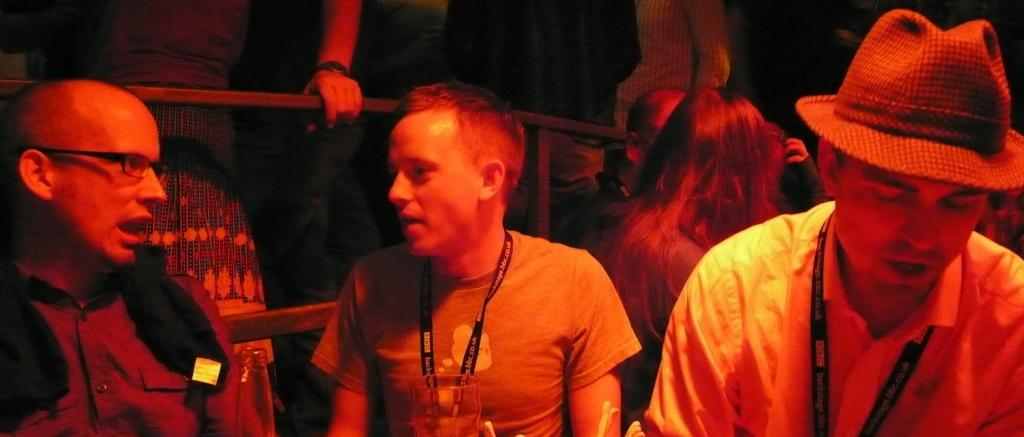Hat: (792, 5, 1022, 189)
